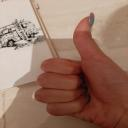ThumbsUp: (24, 12, 122, 127)
